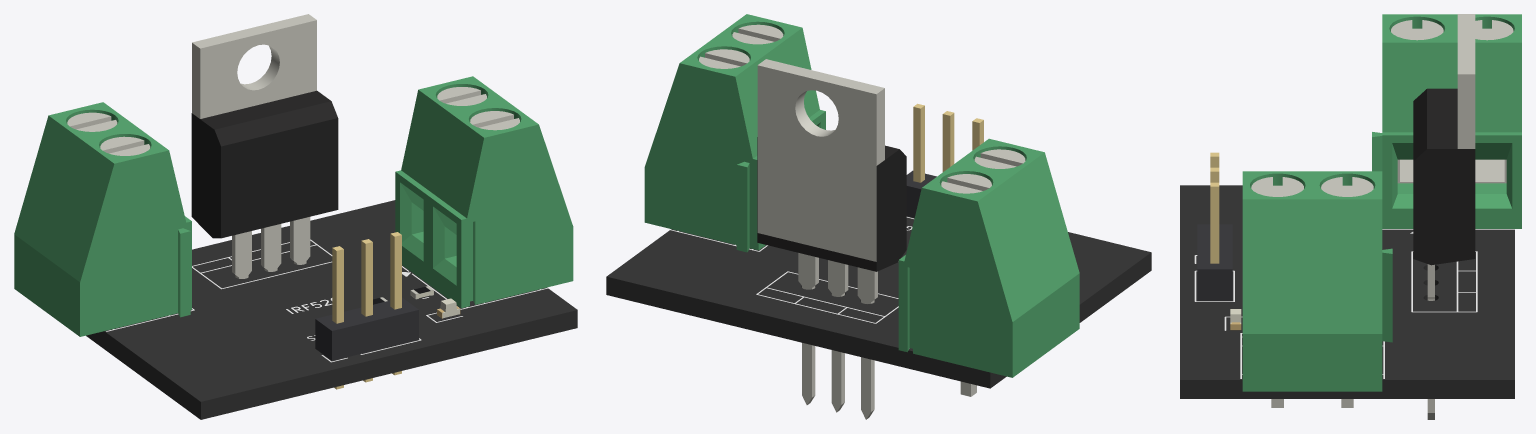
The model's file is mosfet-module.glb.
3 renders of one model, left to right at view 1: azimuth 30°, elevation 25°; view 2: azimuth 150°, elevation 25°; view 3: azimuth 270°, elevation 25°, orthographic. The views are drawn at different scales.
Parts seen in each view (by area): view 1: =>[0:1:1:11], J1, J2, Q1, detail (×4), =>[0:1:1:10]; view 2: J1, Q1, =>[0:1:1:11], J2, detail (×3), =>[0:1:1:10]; view 3: J2, =>[0:1:1:11], J1, Q1, detail (×2), =>[0:1:1:10].
Part boxes in pixels (<box>): =>[0:1:1:11]: <box>86,200,577,419</box>; J1: <box>14,102,191,336</box>; J2: <box>395,76,573,308</box>; Q1: <box>191,14,338,278</box>; detail (×4): <box>315,232,418,389</box>; =>[0:1:1:10]: <box>106,239,548,362</box>; J1: <box>898,138,1079,396</box>; Q1: <box>757,59,906,419</box>; =>[0:1:1:11]: <box>606,216,1151,388</box>; J2: <box>644,14,825,252</box>; detail (×3): <box>906,103,954,217</box>; =>[0:1:1:10]: <box>669,217,913,323</box>; J2: <box>1242,171,1392,407</box>; =>[0:1:1:11]: <box>1180,185,1514,398</box>; J1: <box>1372,14,1521,228</box>; Q1: <box>1413,14,1475,419</box>; detail (×2): <box>1197,182,1232,300</box>; =>[0:1:1:10]: <box>1194,229,1514,378</box>.
Size of the model in its own units: 0.0374 by 0.0285 by 0.0245.
